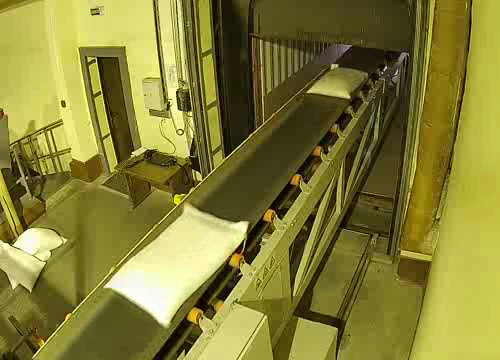bag: (97, 201, 263, 328), (307, 65, 371, 100)
